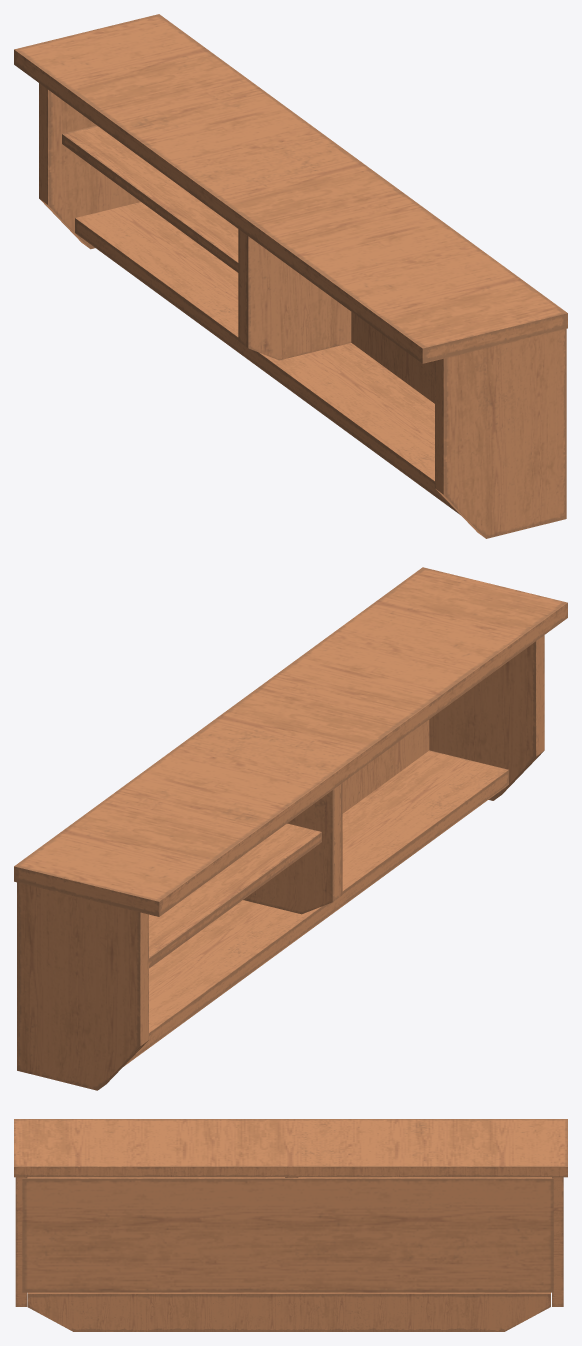
Rendered from SM_Shelf_B1_Top.fbx.
3 renders of one model, top to bottom at view 1: azimuth 30°, elevation 25°; view 2: azimuth 150°, elevation 25°; view 3: azimuth 270°, elevation 25°, orthographic. The views are drawn at different scales.
Parts seen in each view (by area): view 1: SM_Shelf_B1_Top; view 2: SM_Shelf_B1_Top; view 3: SM_Shelf_B1_Top.
Boxes of the visible parts, x1,y1,x2,y2 form: SM_Shelf_B1_Top: [14, 14, 567, 538]; SM_Shelf_B1_Top: [14, 567, 567, 1090]; SM_Shelf_B1_Top: [14, 1119, 567, 1331].
Size of the model in its own units: 38.93 by 189 by 62.03.
1 material, 1 textured.
